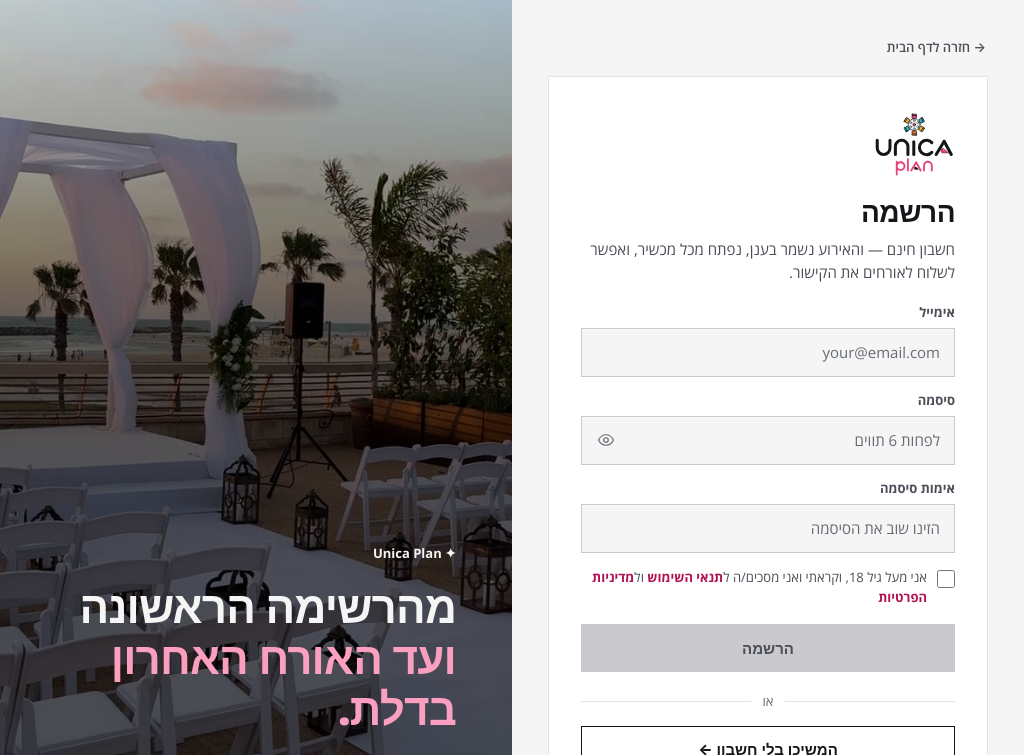
SignupScreen errors (37b) › {"name":"AuthApiError","code":"over_email_send_rate_limit","status":429} → Hebrew
Type "a@b.co" into the field labelled "אימייל" at (768,352), box [581,328,955,377]
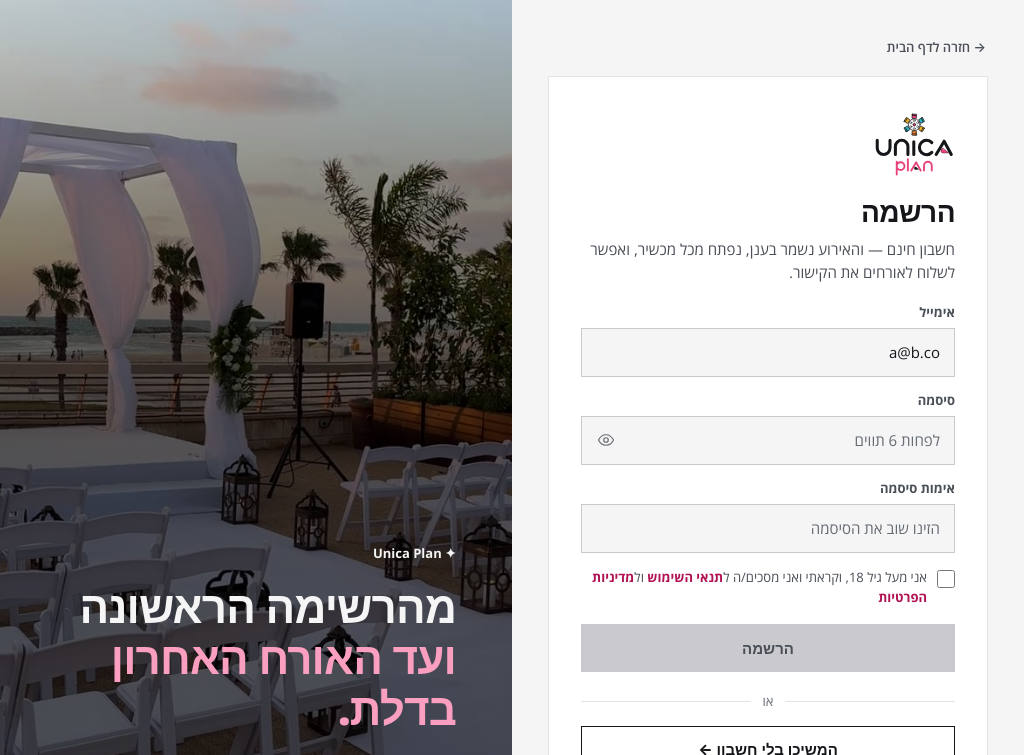
Type "secret1" into the password field labelled "סיסמה" at (768,440), box [581,416,955,465]
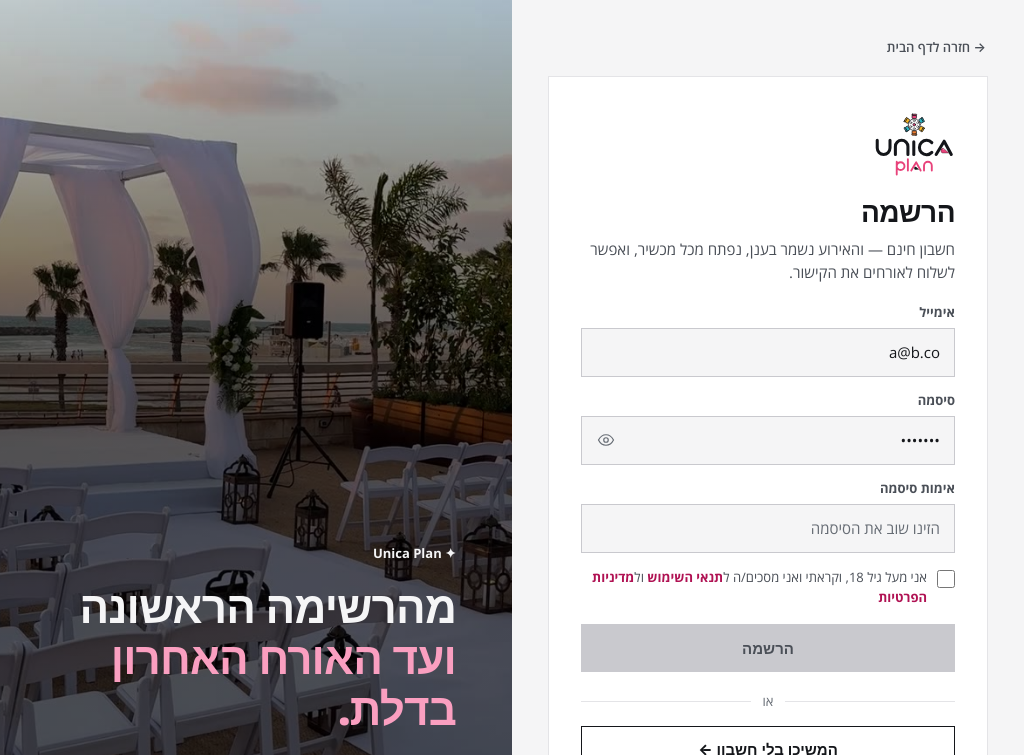
Type "secret1" into the password field labelled "אימות סיסמה" at (768,528), box [581,504,955,553]
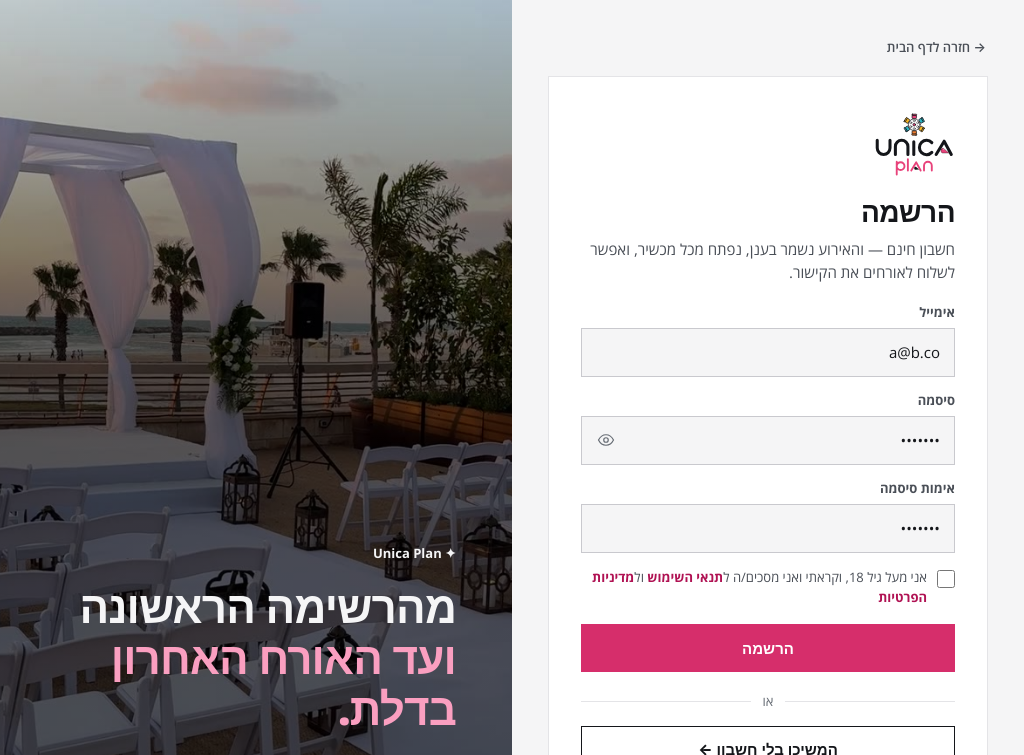
Click the checkbox at (946,579), box [937,570,955,588]
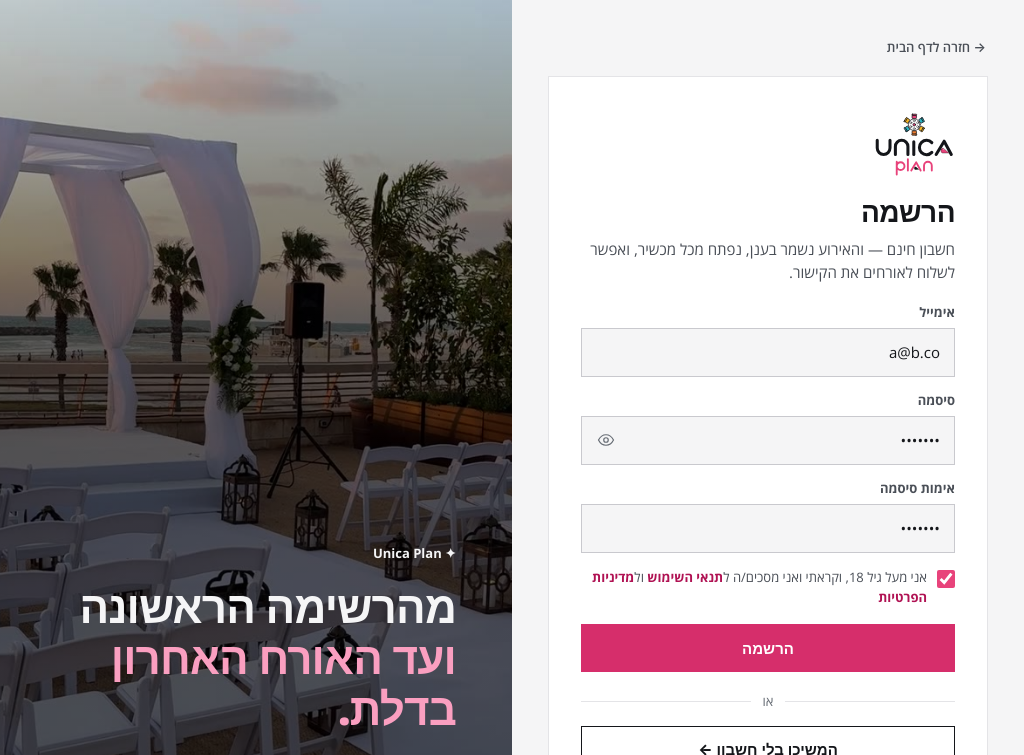
Submit the form labelled "אימייל", box [581,303,955,672]
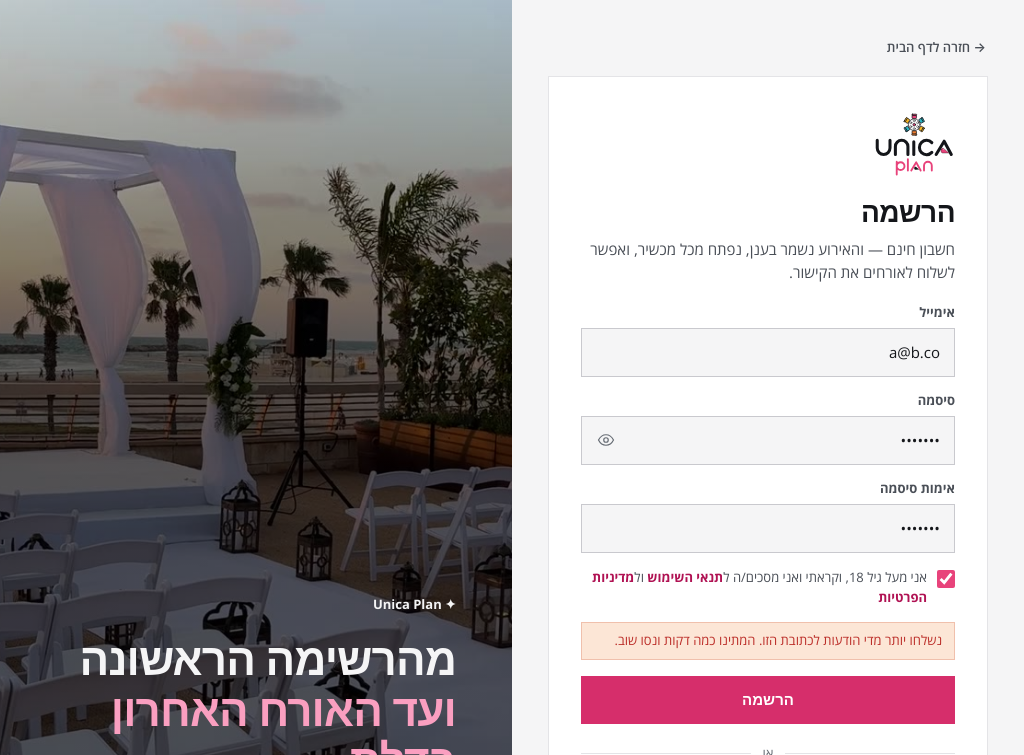
Now the message "נשלחו יותר מדי הודעות לכתובת הזו. המתינו כמה דקות ונסו שוב." is shown, box [581,622,955,660]
